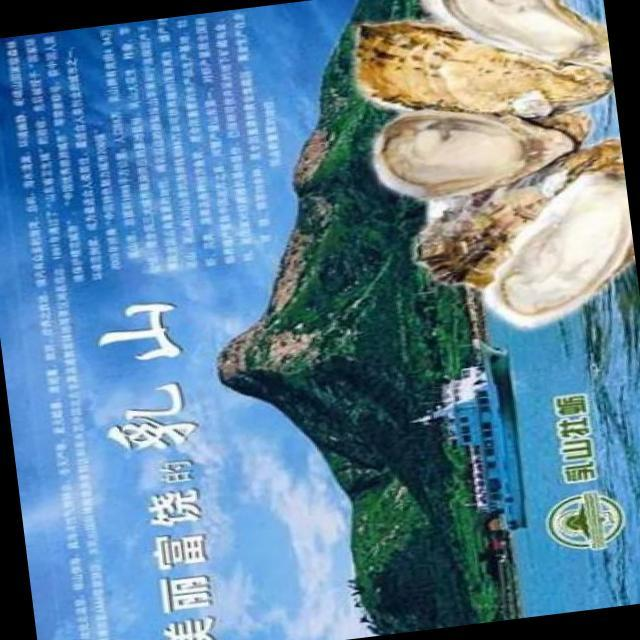Oyster- Indeterminate: (400, 136, 636, 291), (346, 0, 615, 135)
Oyster-Open: (463, 158, 640, 334), (366, 88, 584, 206), (415, 0, 612, 92)
